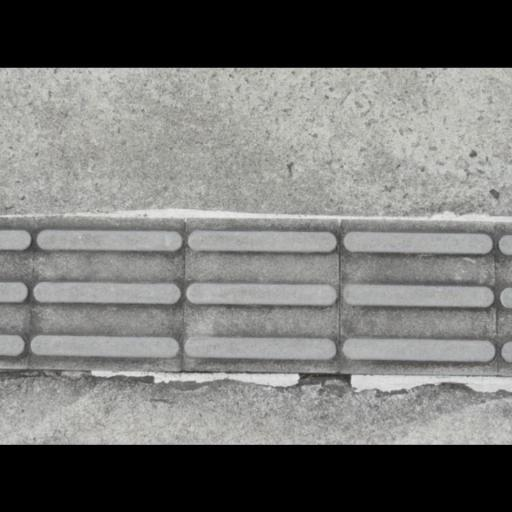line: (341, 223, 502, 378), (183, 219, 344, 372), (26, 219, 186, 371), (0, 217, 35, 371), (497, 227, 511, 378)
